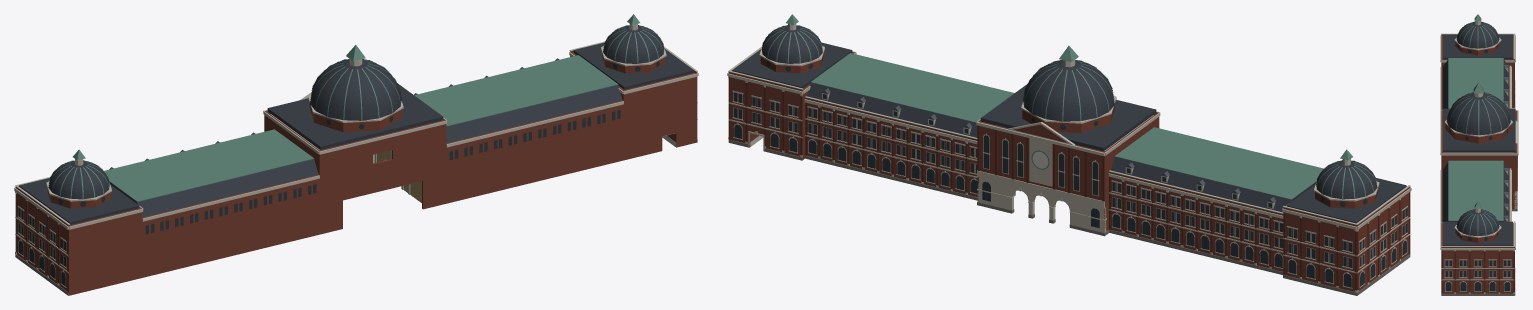
Rendered from kawaeki.glb.
3 renders of one model, left to right at view 1: azimuth 30°, elevation 25°; view 2: azimuth 150°, elevation 25°; view 3: azimuth 270°, elevation 25°, orthographic. The views are drawn at different scales.
Visible parts, largest first — view 1: kawaeki_main_body; view 2: kawaeki_main_body; view 3: kawaeki_main_body.
Part boxes in pixels (x1,y1,x2,y2): kawaeki_main_body: [14, 14, 698, 295]; kawaeki_main_body: [727, 14, 1411, 295]; kawaeki_main_body: [1440, 14, 1518, 295].
Size of the model in its own units: 189 by 44.3 by 29.22.
